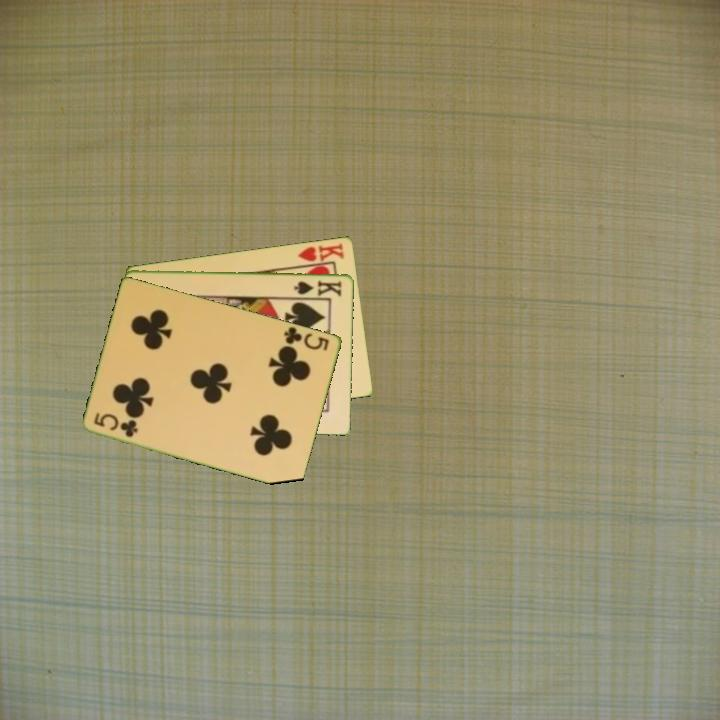5c: (90, 409, 141, 440), (281, 323, 332, 353)
Kh: (293, 239, 347, 269)
Ks: (291, 277, 344, 299)
